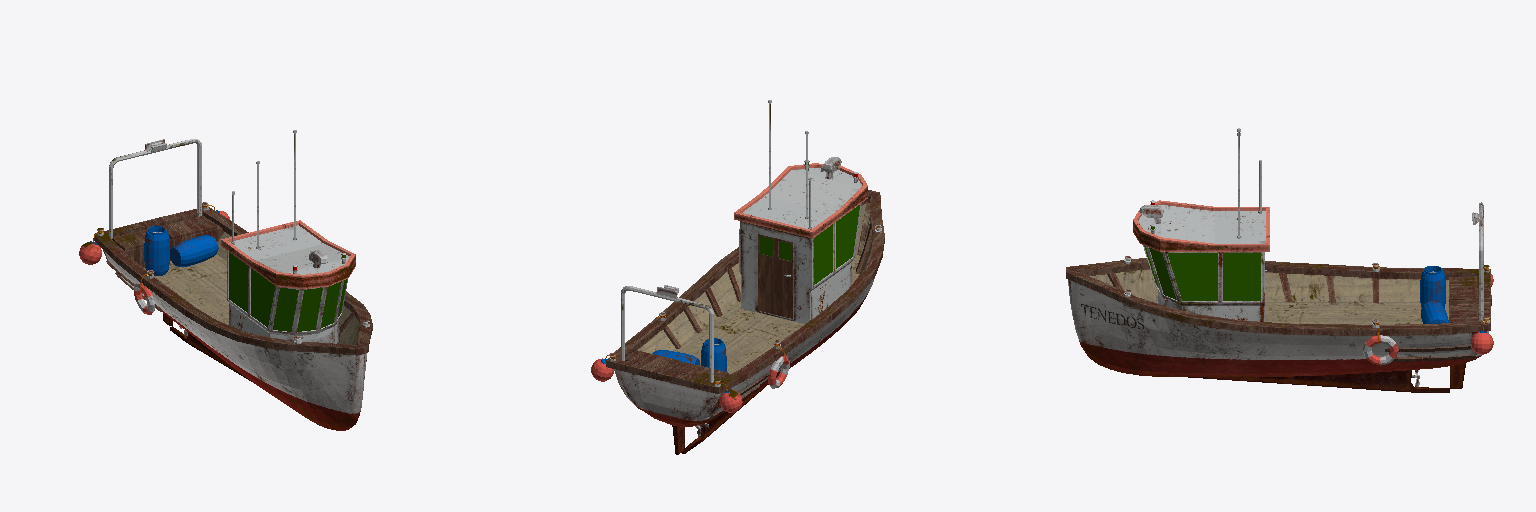
3 views of the same model, side by side, from view 1: azimuth 30°, elevation 25°; view 2: azimuth 150°, elevation 25°; view 3: azimuth 270°, elevation 25° (orthographic).
Parts seen in each view (by area): view 1: Cube.022_Cube.035; view 2: Cube.022_Cube.035; view 3: Cube.022_Cube.035.
Part boxes in pixels (x1,y1,x2,y2): Cube.022_Cube.035: (79,130,372,430); Cube.022_Cube.035: (591,100,884,454); Cube.022_Cube.035: (1066,128,1493,392).
Bounding box in the file's own units: 1.85 × 3.23 × 4.6.
Materials: 7 (5 with a texture image).